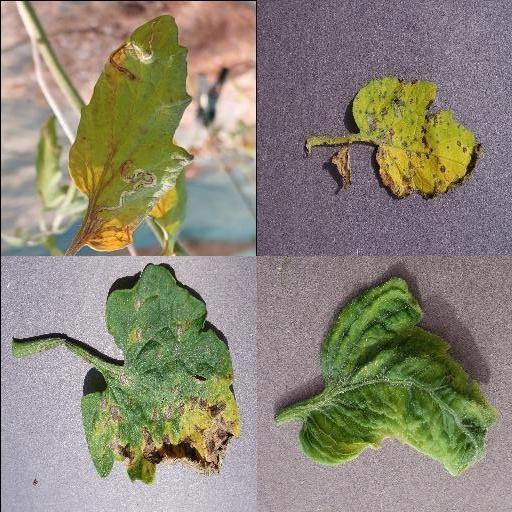Leaf Miner: (63, 13, 195, 255)
Septoria: (75, 263, 241, 485), (350, 77, 484, 199)
Yellow Leaf Curl Virus: (298, 274, 496, 478)
